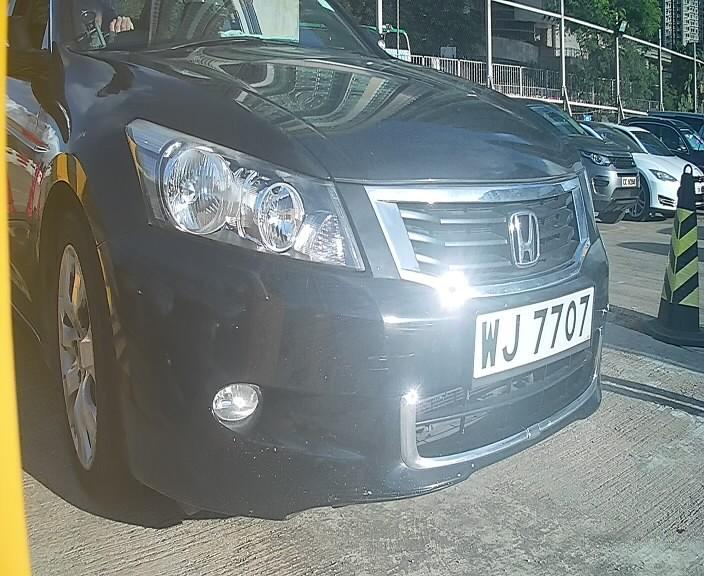License Plate: (457, 274, 602, 394)
